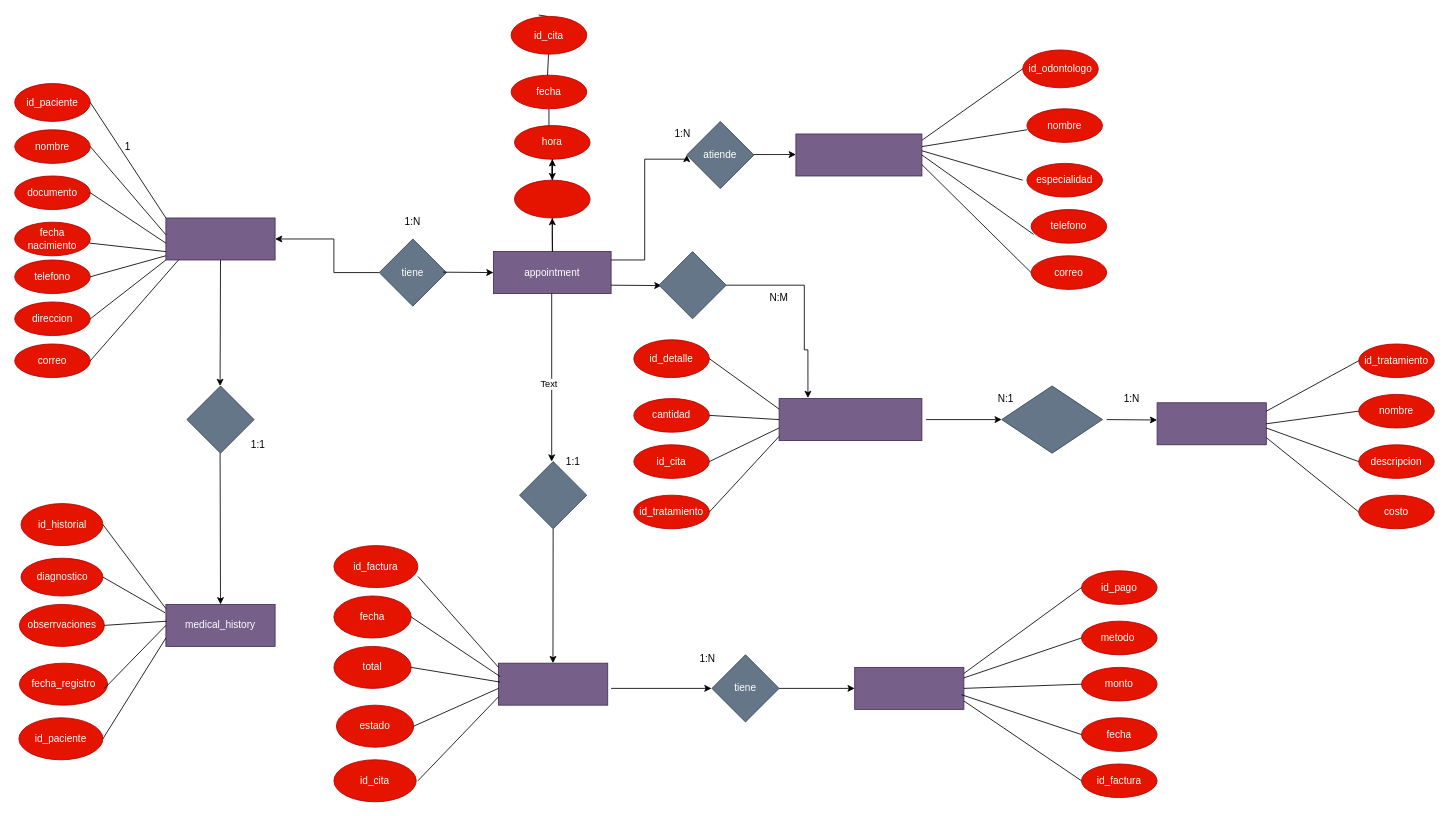
The diagram is 1449 pixels wide and 816 high, and some of its shapes have lost their labels. Each missing label, with the box of its shape:
corresponde a: (1001, 385, 1102, 453)
dentist: (795, 133, 922, 176)
genera: (519, 461, 587, 529)
incluye: (658, 251, 726, 319)
invoice: (498, 662, 608, 705)
motivo: (514, 179, 590, 218)
patient: (165, 217, 275, 260)
payment: (854, 667, 964, 709)
posee: (186, 385, 254, 453)
treatment: (1156, 402, 1266, 445)
treatment_appointment: (778, 398, 922, 441)
